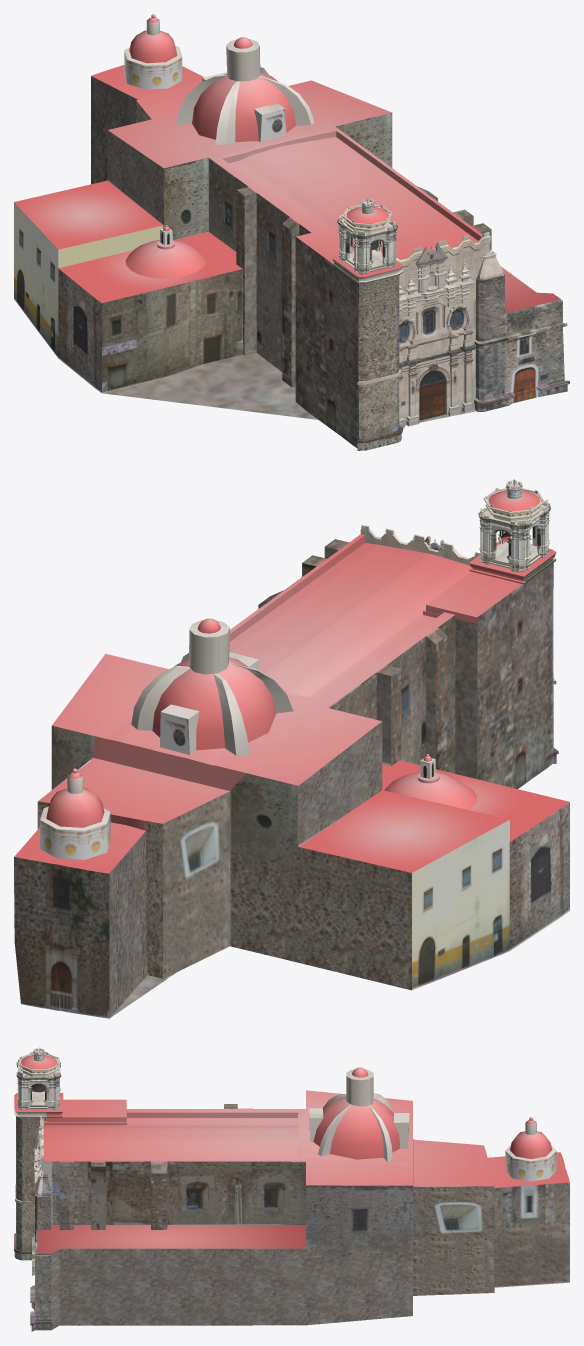
Rendered from San_Francisco_texturas_FBX.fbx.
3 renders of one model, top to bottom at view 1: azimuth 30°, elevation 25°; view 2: azimuth 150°, elevation 25°; view 3: azimuth 270°, elevation 25°, orthographic. The views are drawn at different scales.
Parts seen in each view (by area): view 1: Iglesia, cupula_Pricipal, Detalles, campanario1, pSphere5, cupula1; view 2: Iglesia, cupula_Pricipal, campanario1, pSphere5, cupula1; view 3: Iglesia, cupula_Pricipal, campanario1, pSphere5.
Boxes of the visible parts, left/top/right/bottom form: Iglesia: left=14, top=65, right=569, bottom=450; cupula_Pricipal: left=176, top=37, right=314, bottom=144; Detalles: left=399, top=243, right=476, bottom=427; campanario1: left=337, top=197, right=397, bottom=274; pSphere5: left=124, top=14, right=182, bottom=89; cupula1: left=125, top=225, right=206, bottom=278; Iglesia: left=14, top=524, right=569, bottom=1018; cupula_Pricipal: left=131, top=618, right=293, bottom=755; campanario1: left=478, top=479, right=550, bottom=572; pSphere5: left=40, top=768, right=110, bottom=859; cupula1: left=384, top=754, right=477, bottom=809; Iglesia: left=14, top=1090, right=569, bottom=1331; cupula_Pricipal: left=309, top=1067, right=409, bottom=1162; campanario1: left=16, top=1047, right=61, bottom=1109; pSphere5: left=505, top=1117, right=556, bottom=1181.
Size of the model in its own units: 24.04 by 15.95 by 38.43.
1 material, 1 textured.
